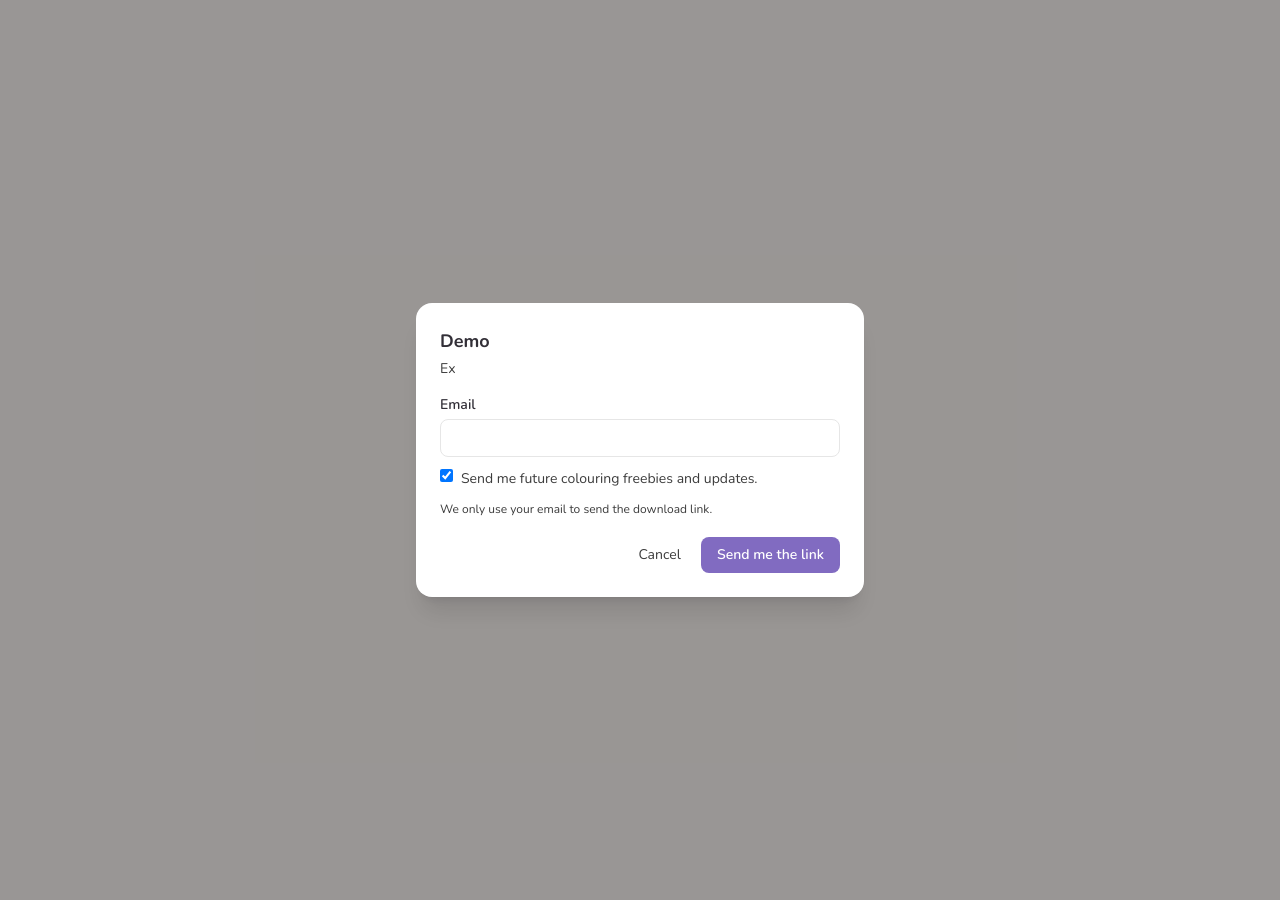
Test: EmailGateModal › submits to requestFreebie and shows success state
The image size is (1280, 900).
Type "u@e.com" into the field labelled "Email".
click(640, 438); type("u@e.com")  # box [440,419,840,457]
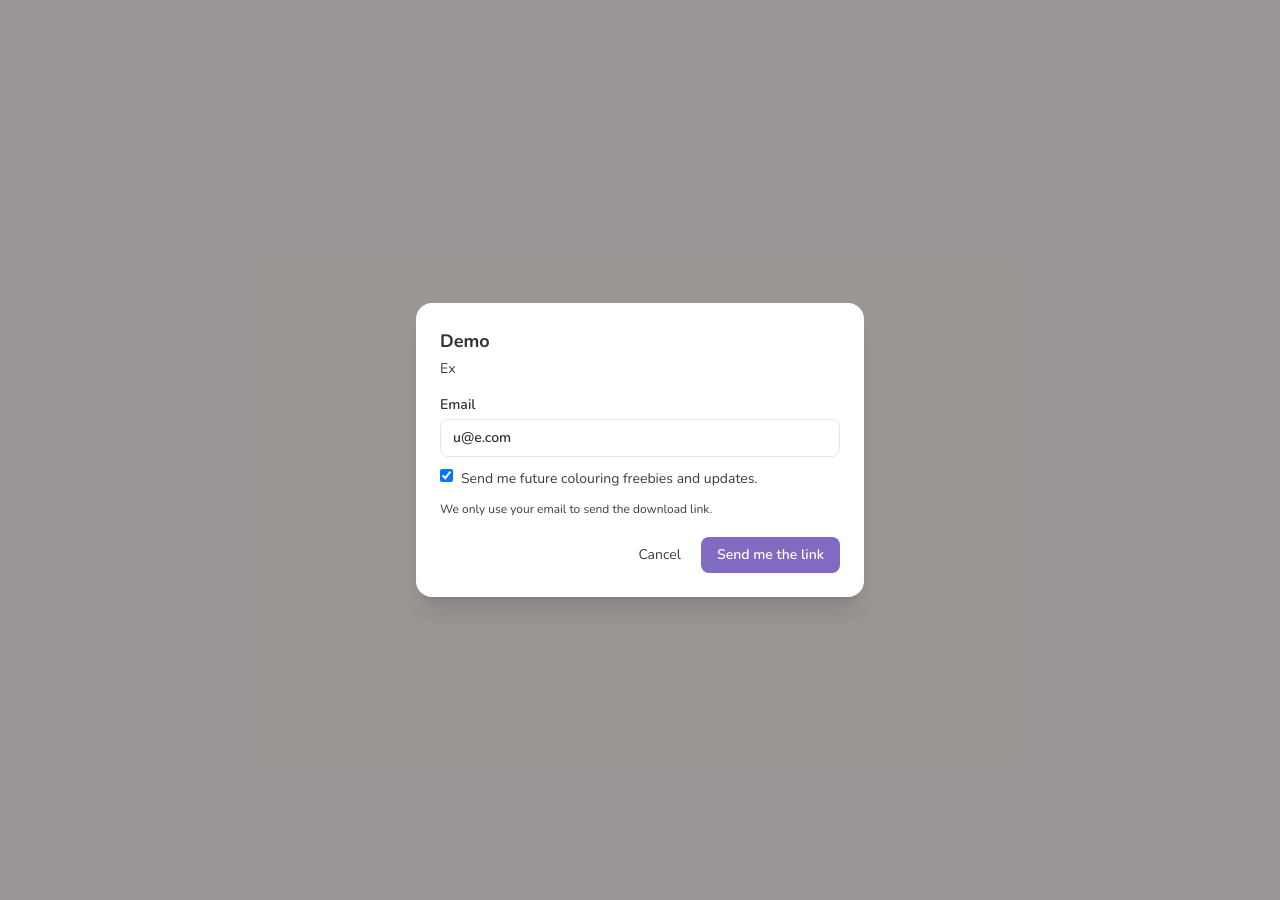
Click the button "Send me the link".
click(770, 555)  # box [701,537,840,573]
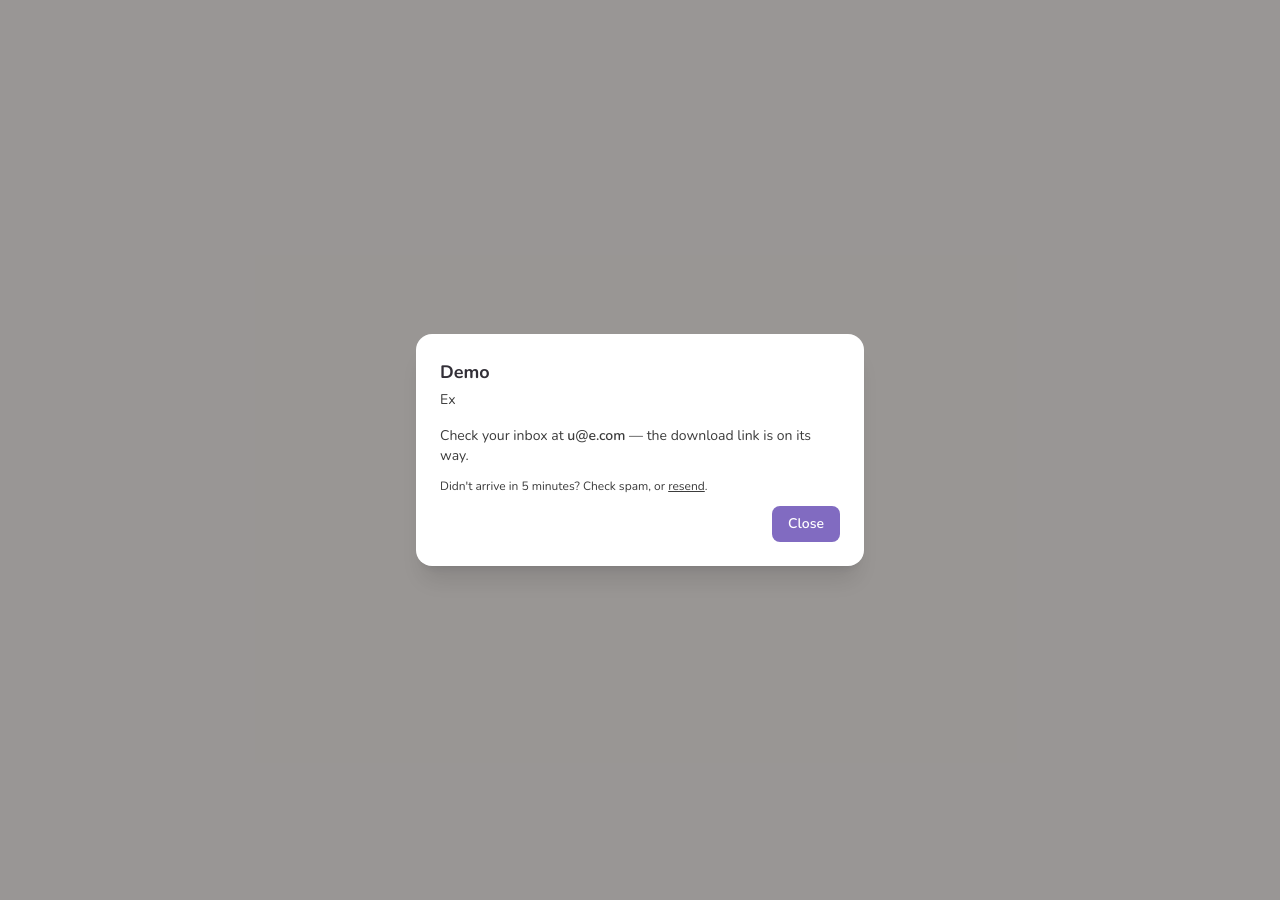
Now the text "Check your inbox" is shown, box [440,426,567,445]
